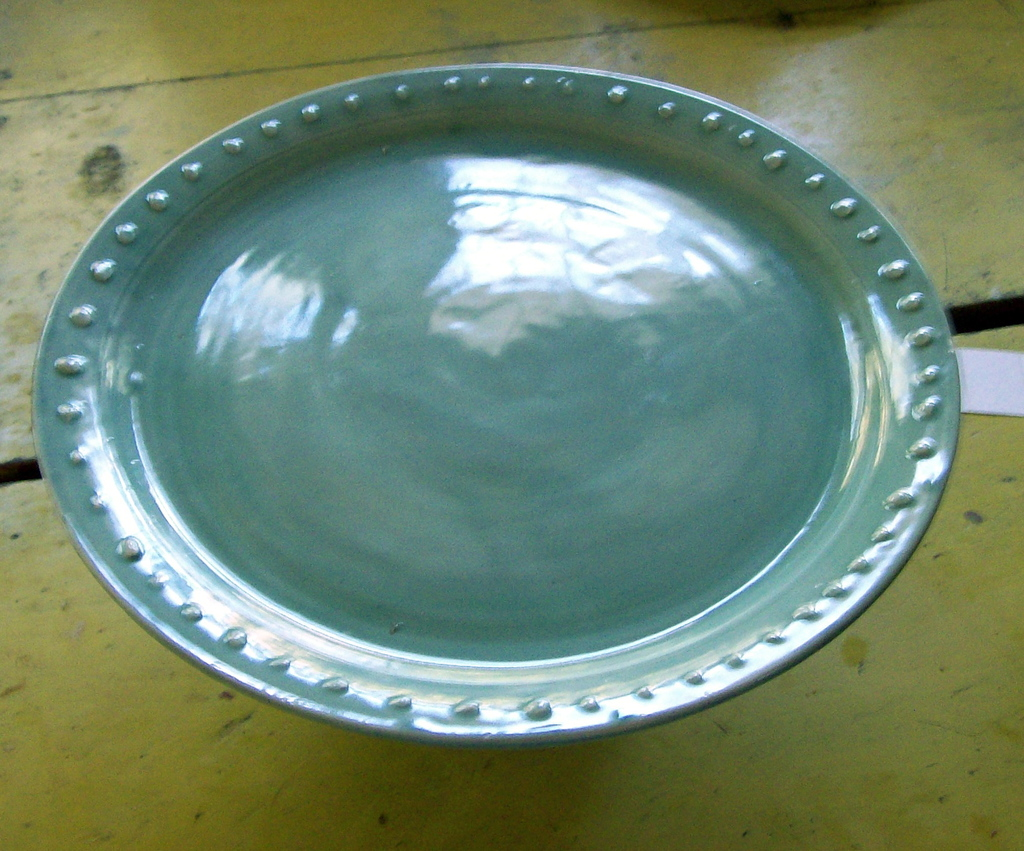plate: (31, 62, 961, 745)
